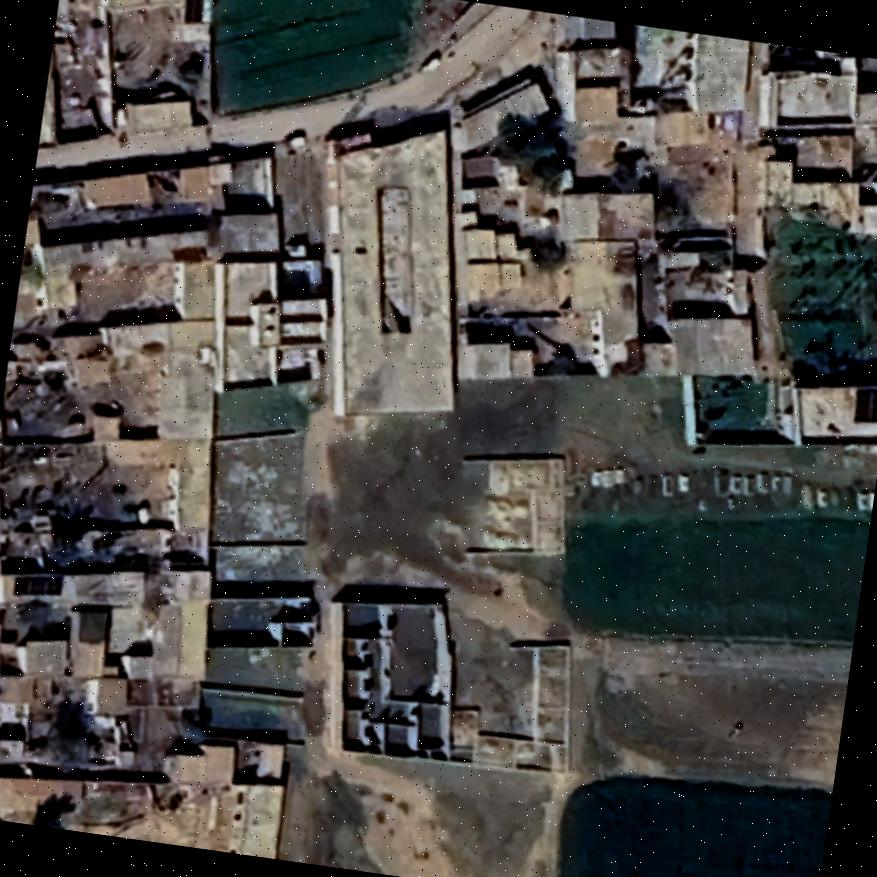Solarpanel: (7, 564, 67, 602), (847, 376, 877, 428), (176, 0, 209, 26)
